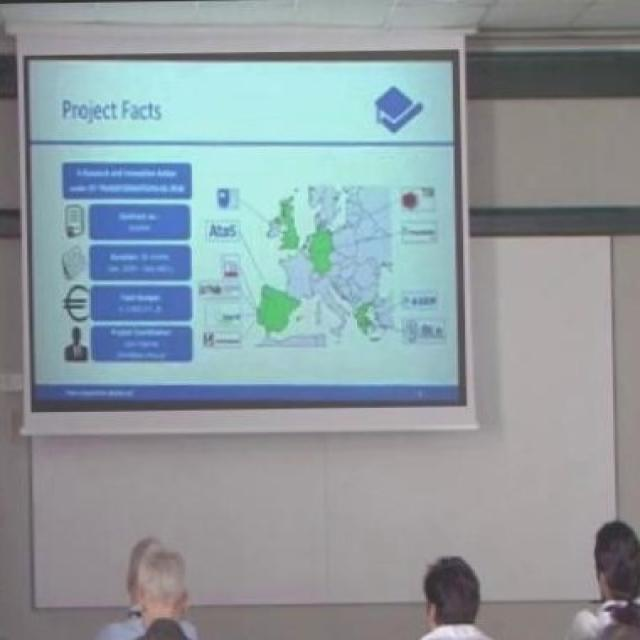Slide: (21, 55, 466, 412)
White-board: (30, 239, 608, 606)
